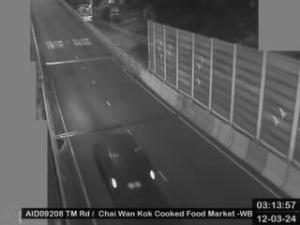vehicle: (94, 132, 158, 200)
